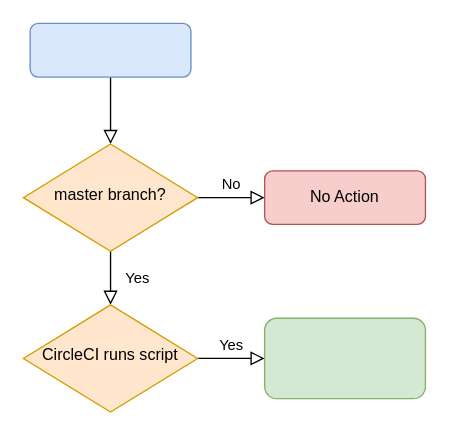
Some shapes in this 449 by 436 pixel diagram are drawn without their labels. Here are the shapes that lost their labels. From the top down, the box of each, then its label:
(29, 22, 191, 77): Code Repo
(263, 317, 425, 399): App is deployed to AWS services (EB, RDS, S3)
